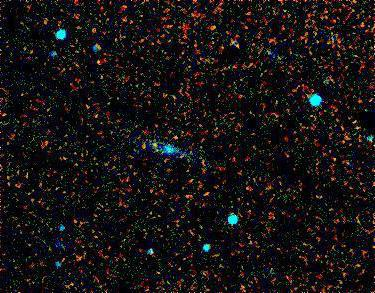star: (164, 119, 194, 149)
